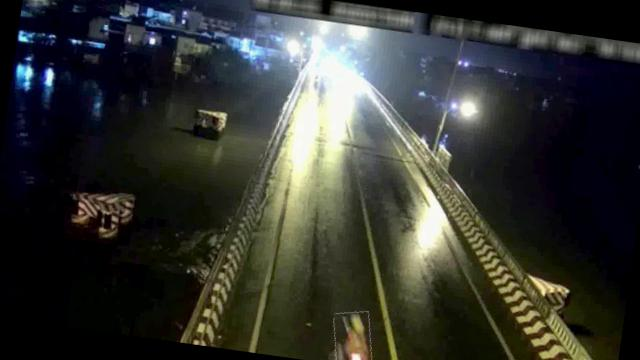Bike: (329, 308, 376, 360)
